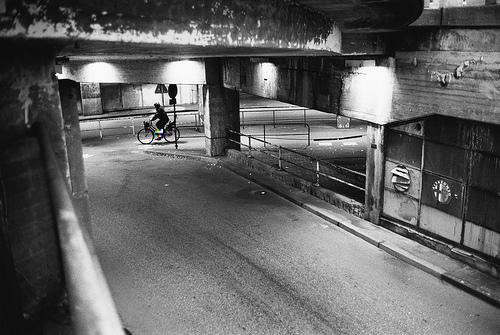car: (137, 120, 181, 147)
person: (149, 102, 171, 143)
